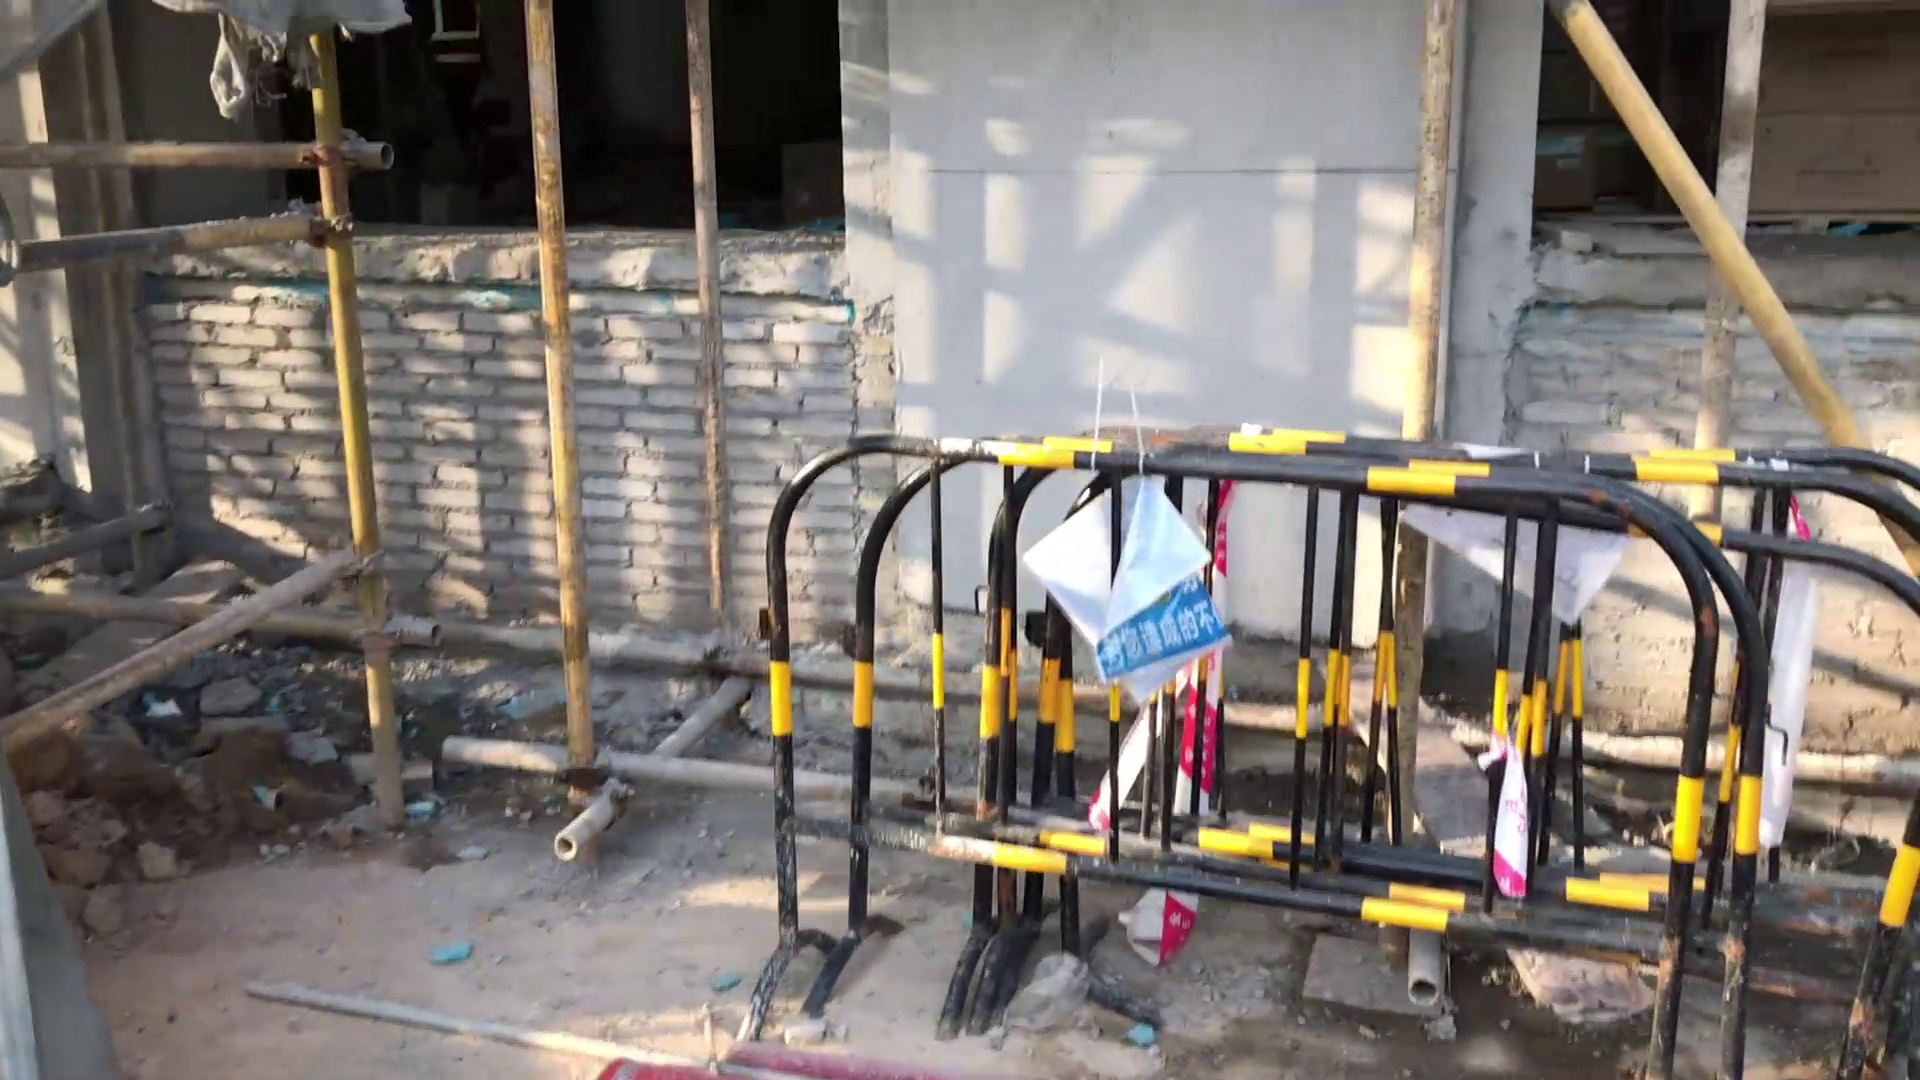fence: (738, 409, 1920, 1080)
